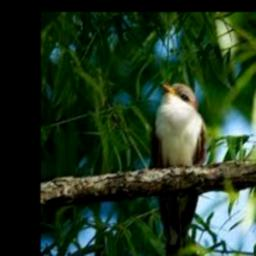Cuckoo: (152, 81, 207, 256)
